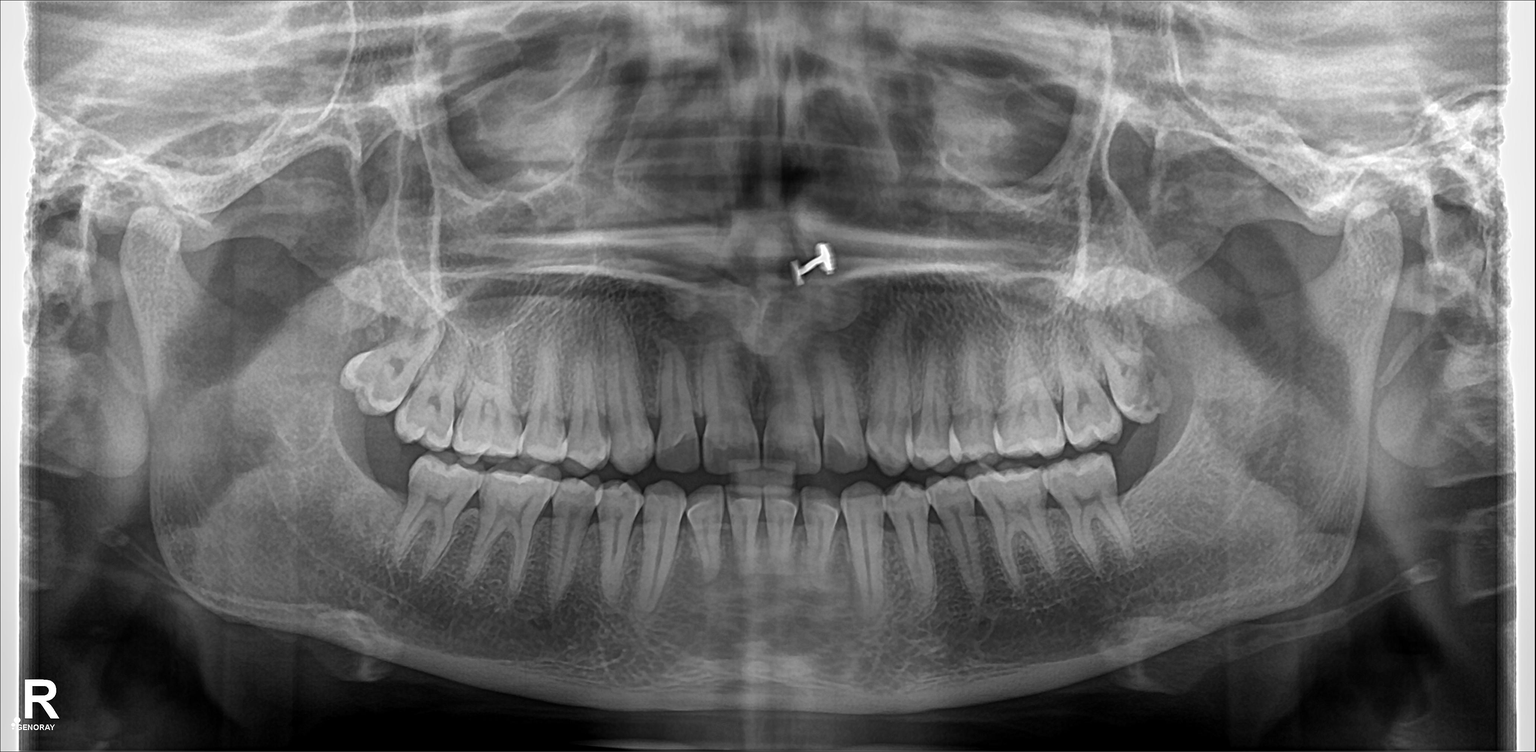Missing Tooth: (361, 450, 410, 532), (1125, 445, 1168, 515)
